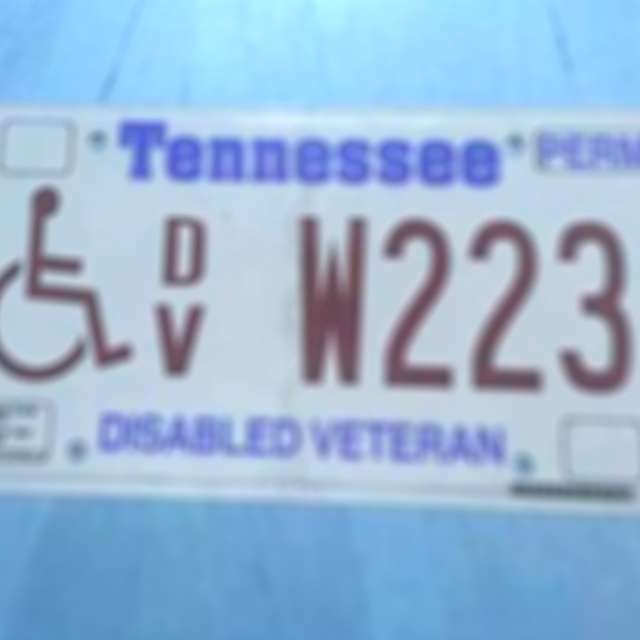ISA: (0, 183, 147, 391)
